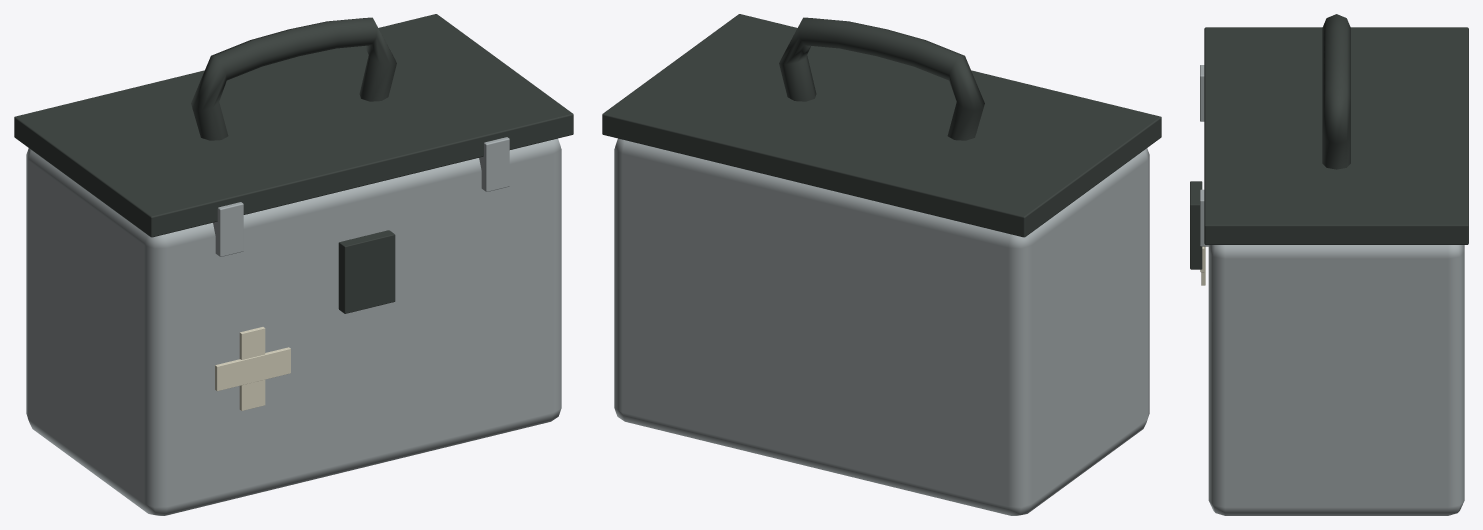
The model's file is field-medicine-and-recovery-medicine-lockbox-956b0124__3072.glb.
The picture shows the model from 3 angles, left to right: view 1: azimuth 30°, elevation 25°; view 2: azimuth 150°, elevation 25°; view 3: azimuth 270°, elevation 25°; orthographic projection. The views are drawn at different scales.
Visible parts, largest first — view 1: medicine-lockbox, lid/dark; view 2: medicine-lockbox, lid/dark; view 3: medicine-lockbox, lid/dark.
Boxes of the visible parts, x1,y1,x2,y2 form: medicine-lockbox: (26, 17, 561, 515); lid/dark: (14, 14, 573, 237); medicine-lockbox: (614, 17, 1149, 515); lid/dark: (602, 14, 1161, 237); medicine-lockbox: (1190, 14, 1464, 515); lid/dark: (1204, 27, 1468, 244).
Bounding box in the file's own units: 0.458 × 0.4108 × 0.272.
